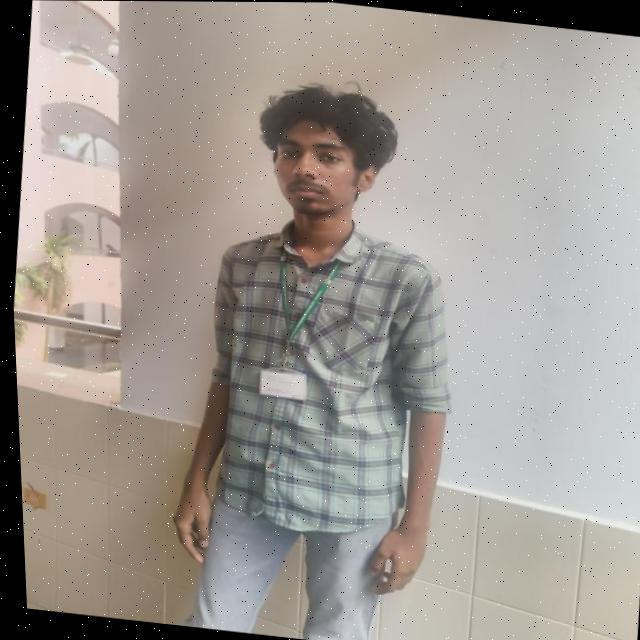id_card: (240, 239, 325, 410)
